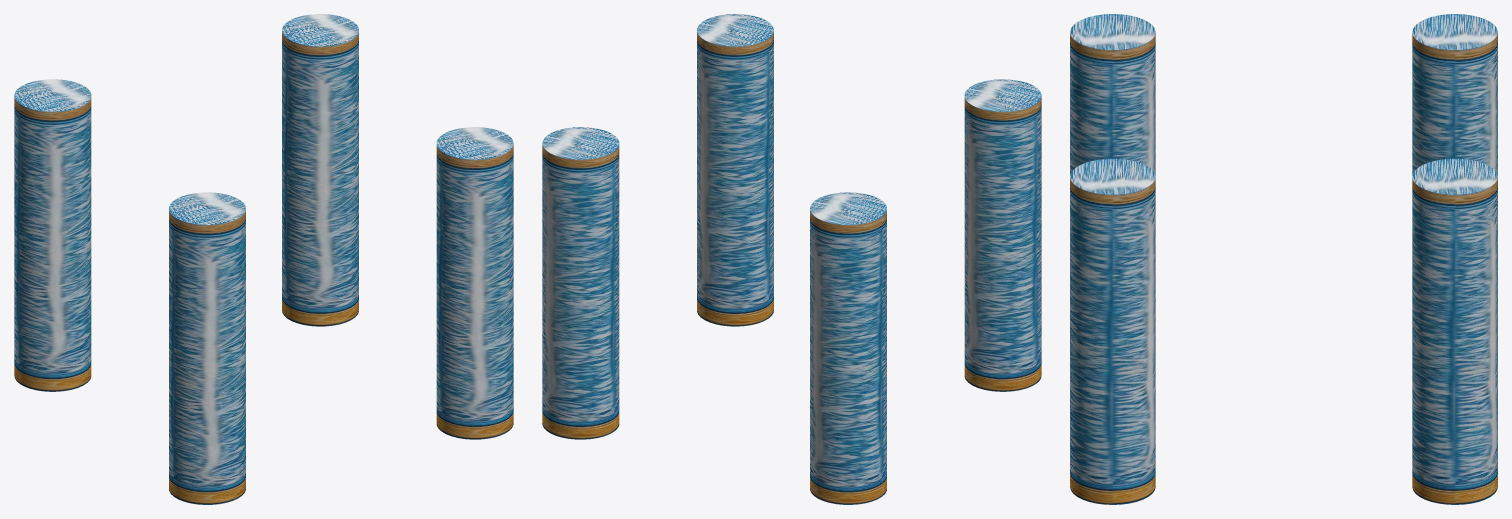
Rendered from blk_pillars_city.glb.
The picture shows the model from 3 angles, left to right: view 1: azimuth 30°, elevation 25°; view 2: azimuth 150°, elevation 25°; view 3: azimuth 270°, elevation 25°; orthographic projection. The views are drawn at different scales.
Parts seen in each view (by area): view 1: 4 pillars; view 2: 4 pillars; view 3: 4 pillars.
Boxes of the visible parts, x1,y1,x2,y2 form: 4 pillars: (14,14,513,504); 4 pillars: (542,14,1041,504); 4 pillars: (1070,14,1497,504).
Bounding box in the file's own units: 2.5 × 2 × 2.5.
Materials: 1 (1 with a texture image).
